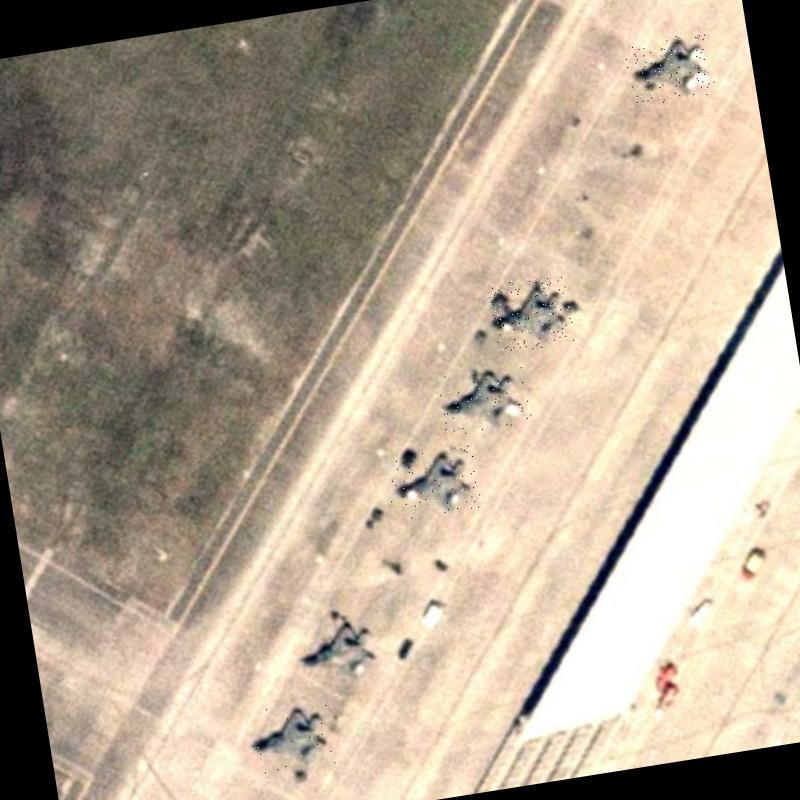A15: (288, 606, 386, 694), (436, 362, 536, 438), (244, 697, 338, 777), (384, 444, 482, 520), (622, 29, 716, 107), (487, 272, 575, 354)
